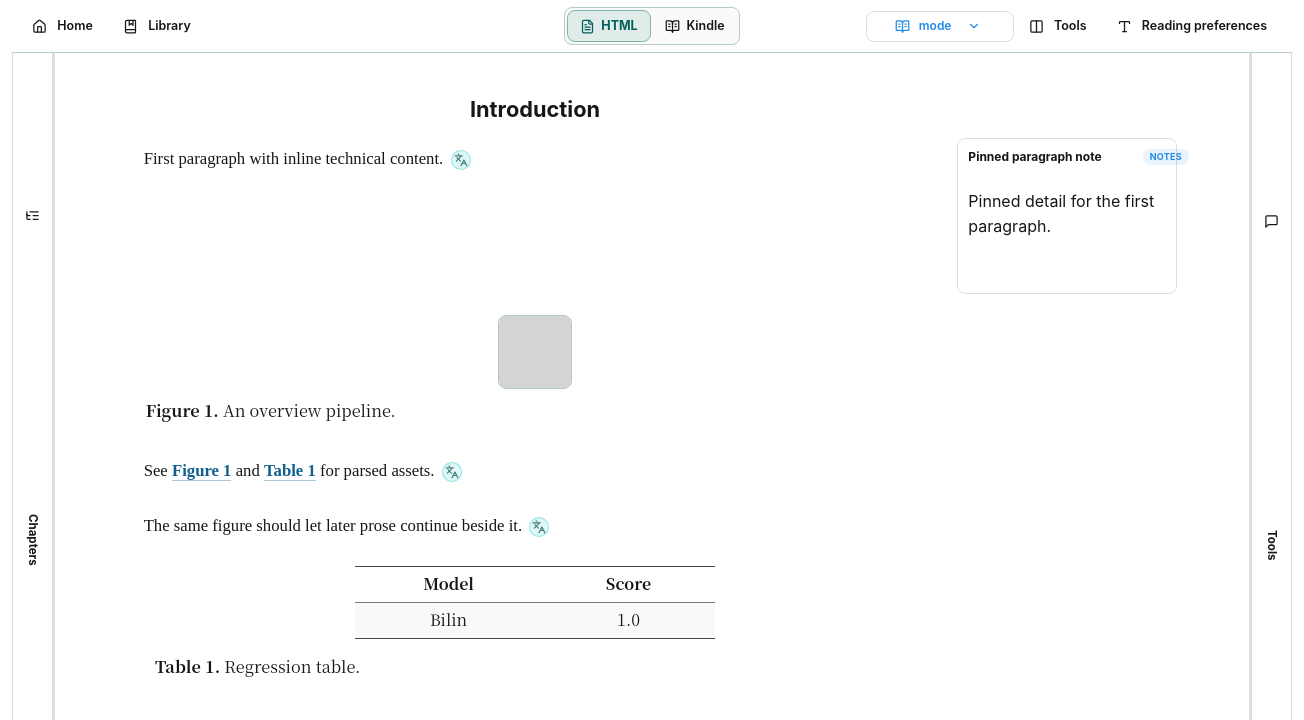
Test case: Bilin web shell › opens pinned note stickies inside the reader page and honors manual close
Expected: the text "Pinned paragraph note" is shown, [968,149,1102,164]
Click the button named "Reader workspace": (1060, 26) [1019,10,1102,42]
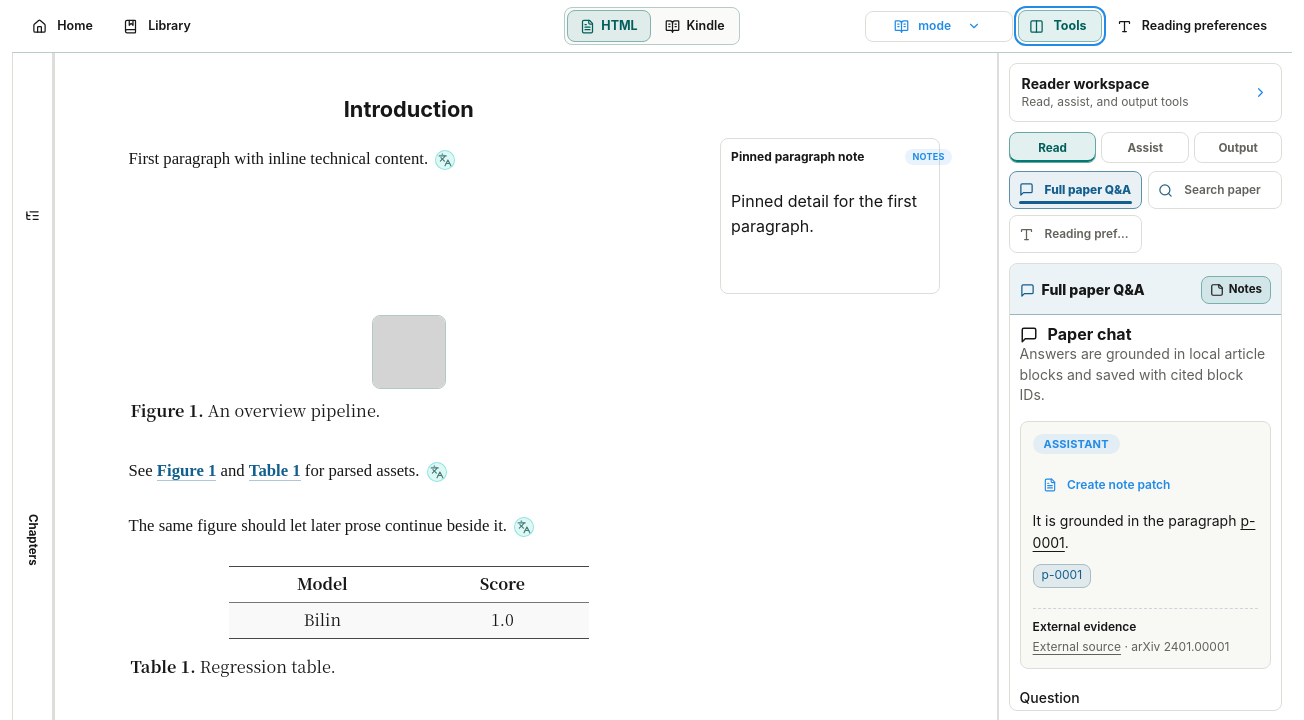
Click the button "Notes": (1236, 290) [1201,276,1271,304]
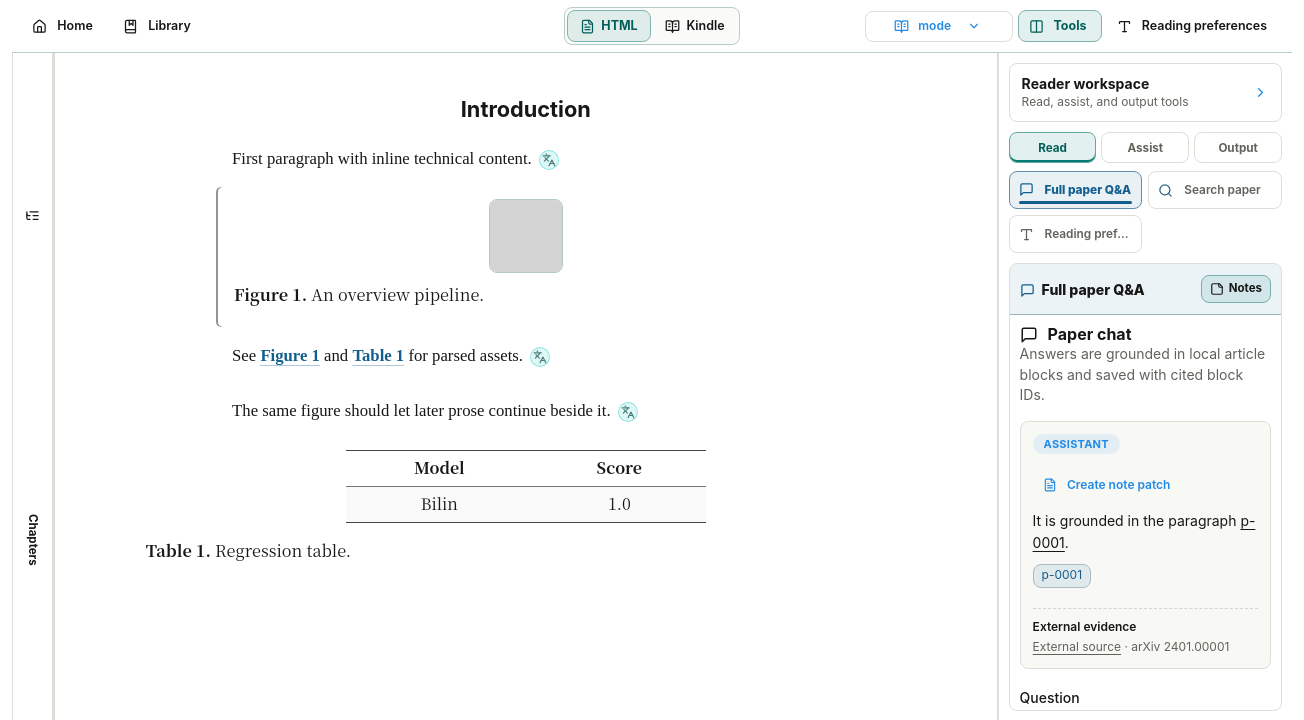
Now the text "Pinned paragraph note" is gone
